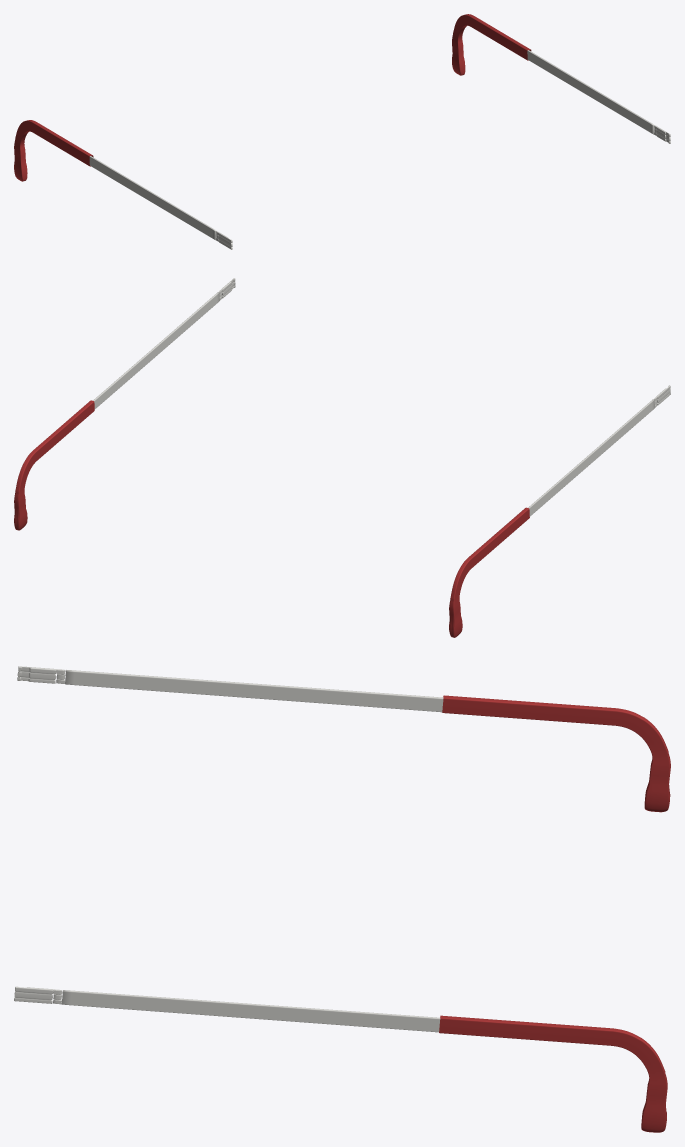
The model's file is custom-temple-tips-2.gltf.
3 renders of one model, top to bottom at view 1: azimuth 30°, elevation 25°; view 2: azimuth 150°, elevation 25°; view 3: azimuth 270°, elevation 25°, orthographic. The views are drawn at different scales.
Parts seen in each view (by area): view 1: Cube.001, Cube.002; view 2: Cube.002, Cube.001; view 3: Cube.001, Cube.002.
Part boxes in pixels (box(x1,y1,x2,y2)): Cube.001: box(89, 50, 670, 249); Cube.002: box(14, 14, 531, 181); Cube.002: box(14, 400, 529, 637); Cube.001: box(93, 278, 670, 516); Cube.001: box(14, 666, 443, 1032); Cube.002: box(439, 695, 670, 1132).
Bounding box in the file's own units: 0.9923 × 0.2049 × 0.849.
